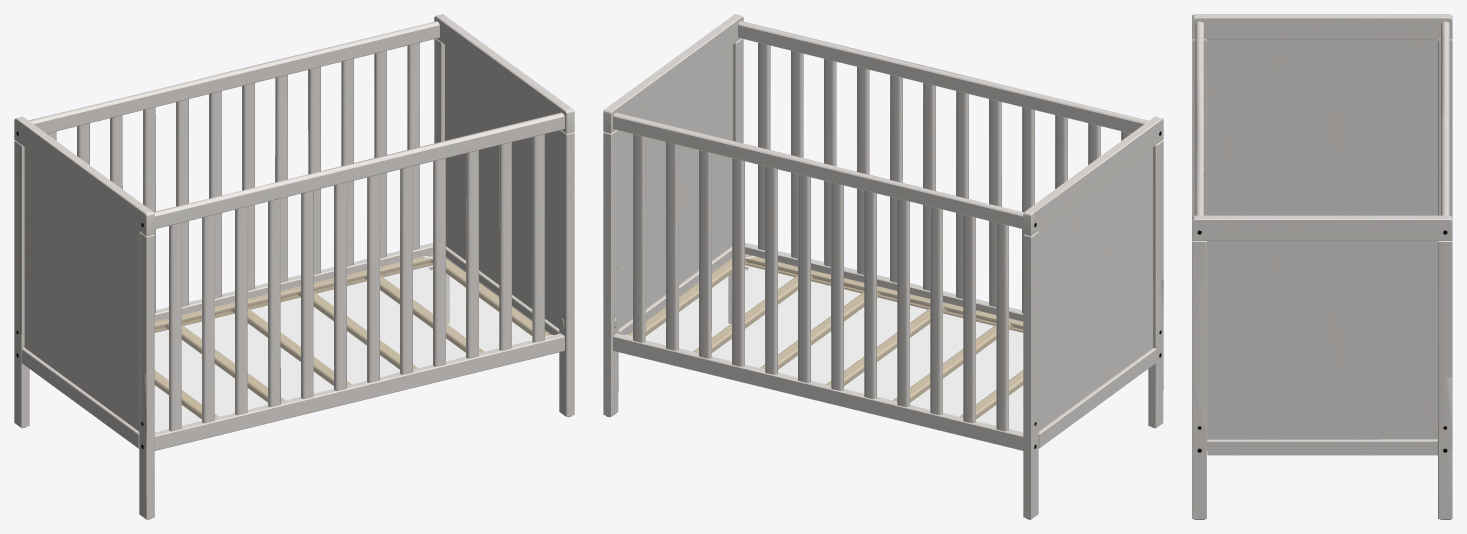
3 views of the same model, side by side, from view 1: azimuth 30°, elevation 25°; view 2: azimuth 150°, elevation 25°; view 3: azimuth 270°, elevation 25° (orthographic).
Parts seen in each view (by area): view 1: 1; view 2: 1; view 3: 1.
Part boxes in pixels (box(x1,y1,x2,y2)): 1: box(14, 14, 574, 519); 1: box(603, 14, 1163, 519); 1: box(1192, 14, 1452, 519).
Bounding box in the file's own units: 1.25 × 0.8525 × 0.667.
2 materials, 2 textured.
